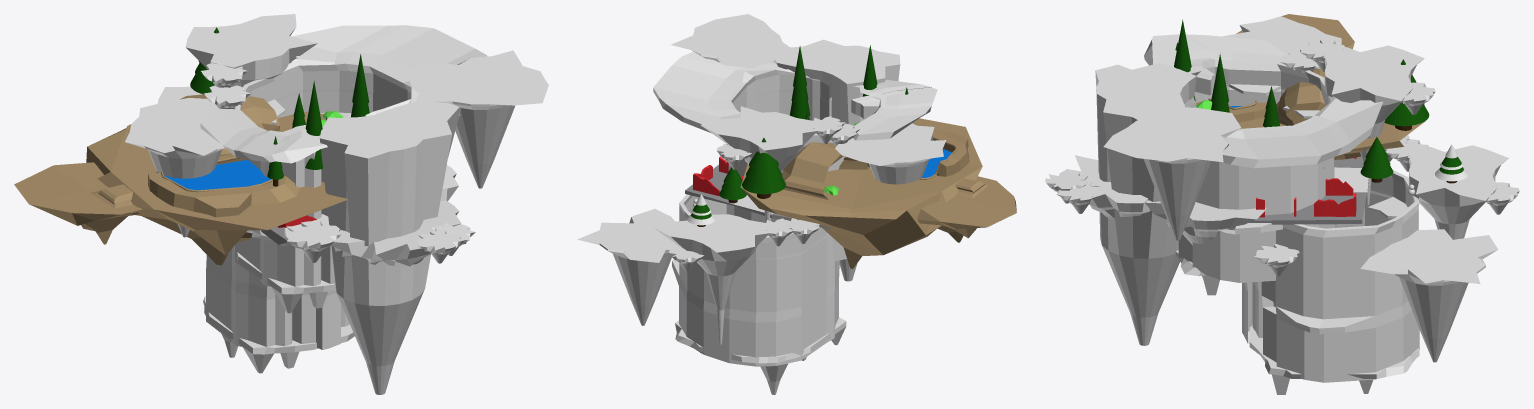
Rendered from blue_abyss_take2.fbx.
3 renders of one model, left to right at view 1: azimuth 30°, elevation 25°; view 2: azimuth 150°, elevation 25°; view 3: azimuth 270°, elevation 25°, orthographic. The views are drawn at different scales.
Parts seen in each view (by area): view 1: main_blue.001, main_blue, medium_island.001, main_island, tree_4.001, tree_4, main_pathway; view 2: main_blue.001, main_blue, medium_island.001, main_island, main_pathway, tree_1.002, tree_4, tree_1, tree_1.001, tree_4.001; view 3: main_blue.001, main_blue, main_pathway, medium_island.001, tree_1, main_island, tree_1.002, tree_1.001, tree_4, tree_4.001, tree_5.
Boxes of the visible parts, x1,y1,x2,y2 form: main_blue.001: (125, 14, 548, 394); main_blue: (157, 86, 475, 373); medium_island.001: (86, 94, 347, 265); main_island: (14, 162, 142, 244); tree_4.001: (305, 80, 322, 169); tree_4: (350, 54, 369, 117); main_pathway: (261, 215, 316, 244); main_blue.001: (653, 14, 946, 281); main_blue: (577, 144, 846, 394); medium_island.001: (740, 118, 982, 269); main_island: (917, 176, 1016, 242); main_pathway: (685, 156, 830, 229); tree_1.002: (742, 138, 785, 198); tree_4: (789, 46, 810, 118); tree_1: (719, 167, 746, 203); tree_1.001: (687, 194, 715, 226); tree_4.001: (863, 45, 877, 96); main_blue.001: (1095, 16, 1435, 345); main_blue: (1045, 135, 1519, 394); main_pathway: (1249, 156, 1368, 224); medium_island.001: (1196, 68, 1425, 159); tree_1: (1360, 137, 1393, 182); main_island: (1236, 14, 1354, 49); tree_1.002: (1384, 59, 1429, 130); tree_1.001: (1435, 144, 1468, 183); tree_4: (1211, 53, 1229, 112); tree_4.001: (1174, 19, 1195, 100); tree_5: (1263, 86, 1279, 127).
Bounding box in the file's own units: 43817 × 32788 × 40839.
